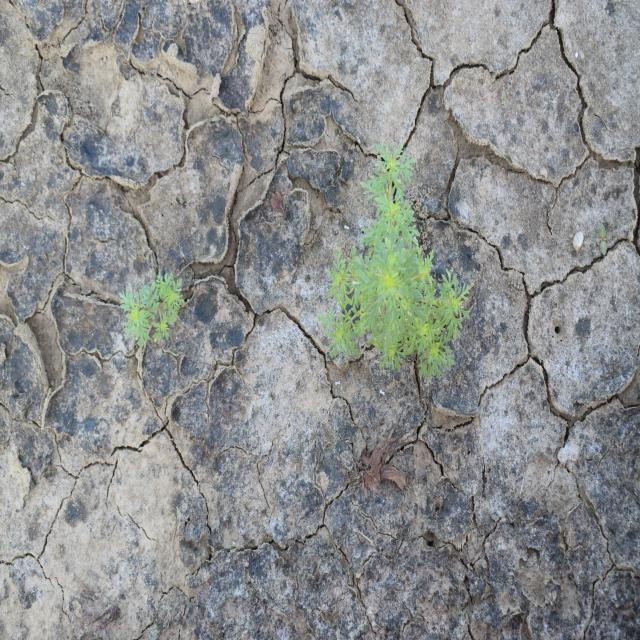Ragweed: (316, 139, 473, 383), (118, 269, 187, 351)
